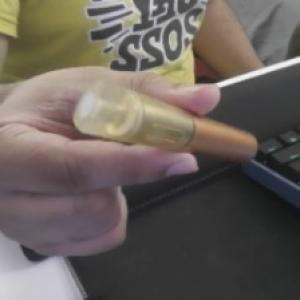Golden-E-Ciggirate: (72, 80, 264, 162)
